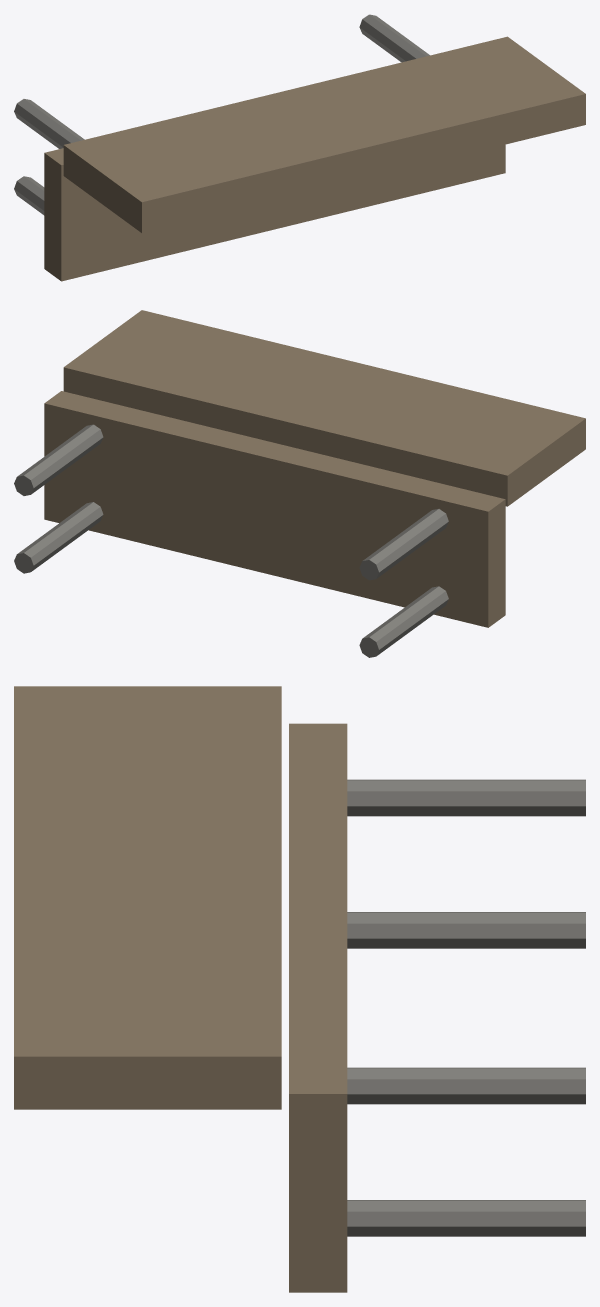
File: bench_urban_worn.glb
3 views of the same model, one above another, from view 1: azimuth 30°, elevation 25°; view 2: azimuth 150°, elevation 25°; view 3: azimuth 270°, elevation 25° (orthographic). The views are drawn at different scales.
Visible parts, largest first — view 1: world; view 2: world; view 3: world.
Boxes of the visible parts, x1,y1,x2,y2 form: world: (14, 14, 585, 281); world: (14, 310, 585, 657); world: (14, 686, 585, 1292).
Size of the model in its own units: 1.8 by 0.535 by 1.17.
